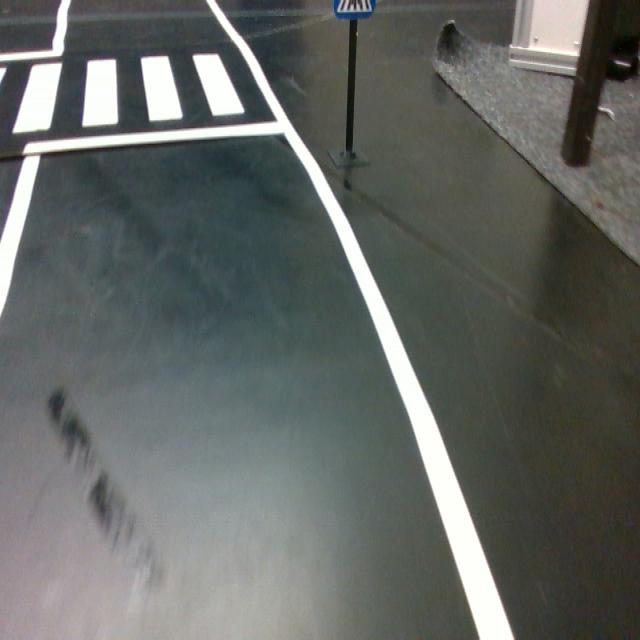crosswalk-sign: (332, 0, 376, 19)
